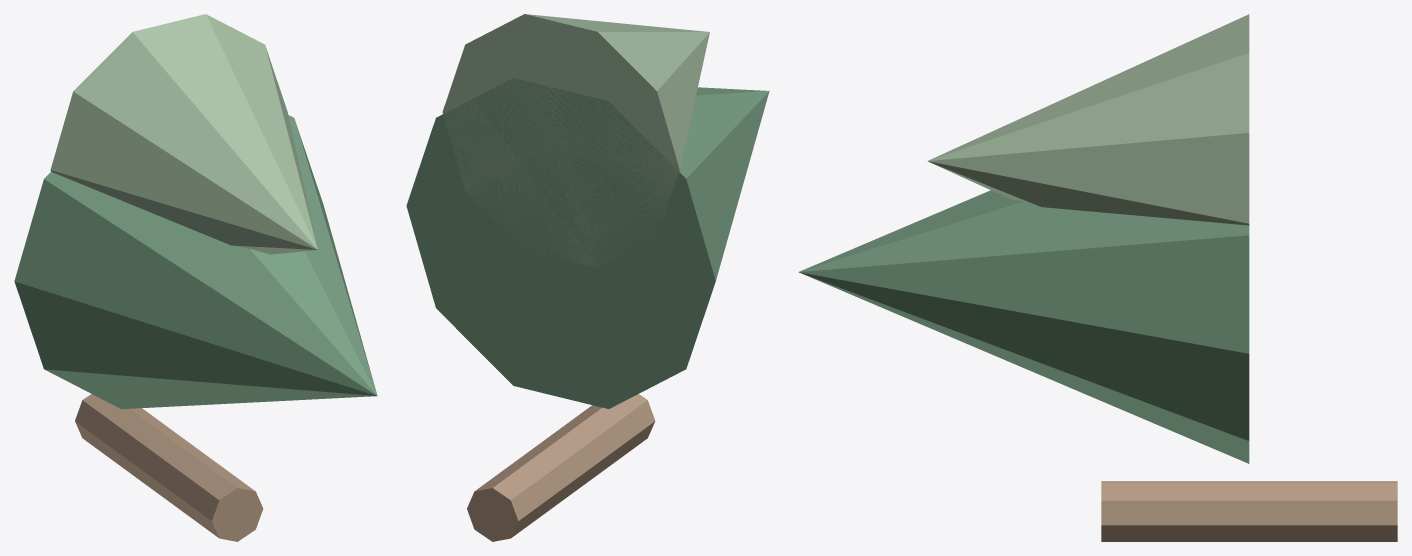
The model's file is tree_pine.glb.
The picture shows the model from 3 angles, left to right: view 1: azimuth 30°, elevation 25°; view 2: azimuth 150°, elevation 25°; view 3: azimuth 270°, elevation 25°; orthographic projection. The views are drawn at different scales.
Visible parts, largest first — view 1: part_01, part_02, part_00; view 2: part_01, part_02, part_00; view 3: part_01, part_02, part_00.
Boxes of the visible parts, box(x1,y1,x2,y2) form: part_01: box(14, 115, 377, 409); part_02: box(50, 14, 317, 254); part_00: box(75, 394, 263, 541); part_01: box(406, 78, 769, 408); part_02: box(442, 14, 709, 267); part_00: box(467, 394, 655, 541); part_01: box(798, 190, 1249, 463); part_02: box(927, 14, 1249, 225); part_00: box(1101, 481, 1397, 541).
Size of the model in its own units: 3 by 4.34 by 4.65.
